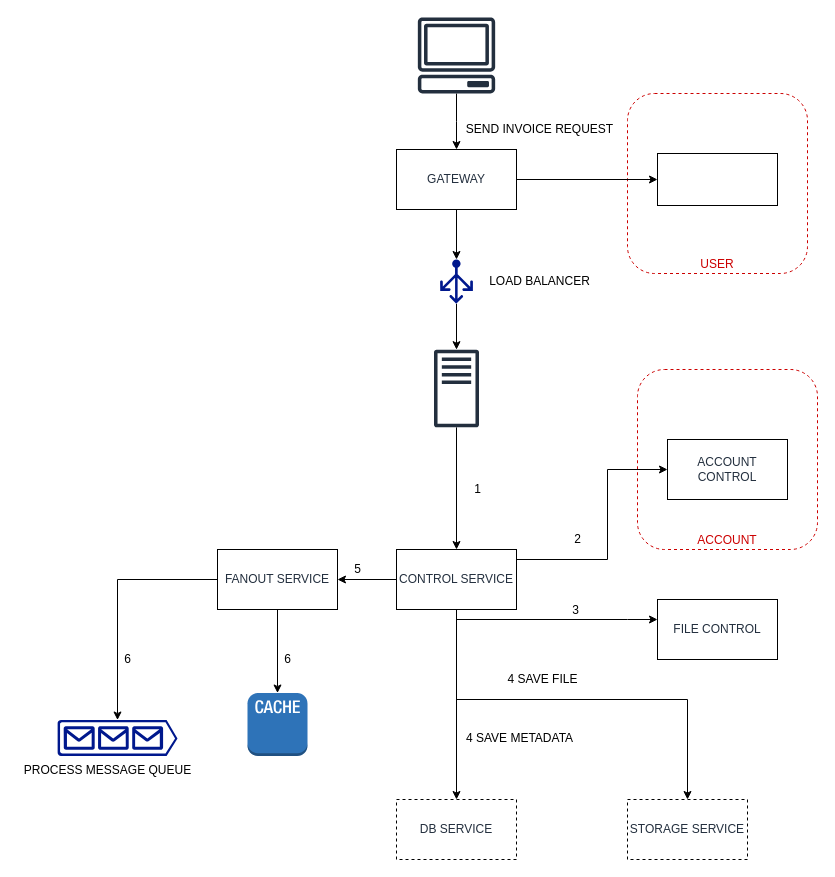
The diagram is 835 pixels wide and 877 high, and some of its shapes have lost their labels. The centre of each missing label's shape, as x and y in pixels:
"Client" goes at [456,55].
"INVOICE STATUS CACHE" goes at [277,724].
"USER CONTROL" goes at [717,179].
"WEB SERVERS" goes at [456,388].
